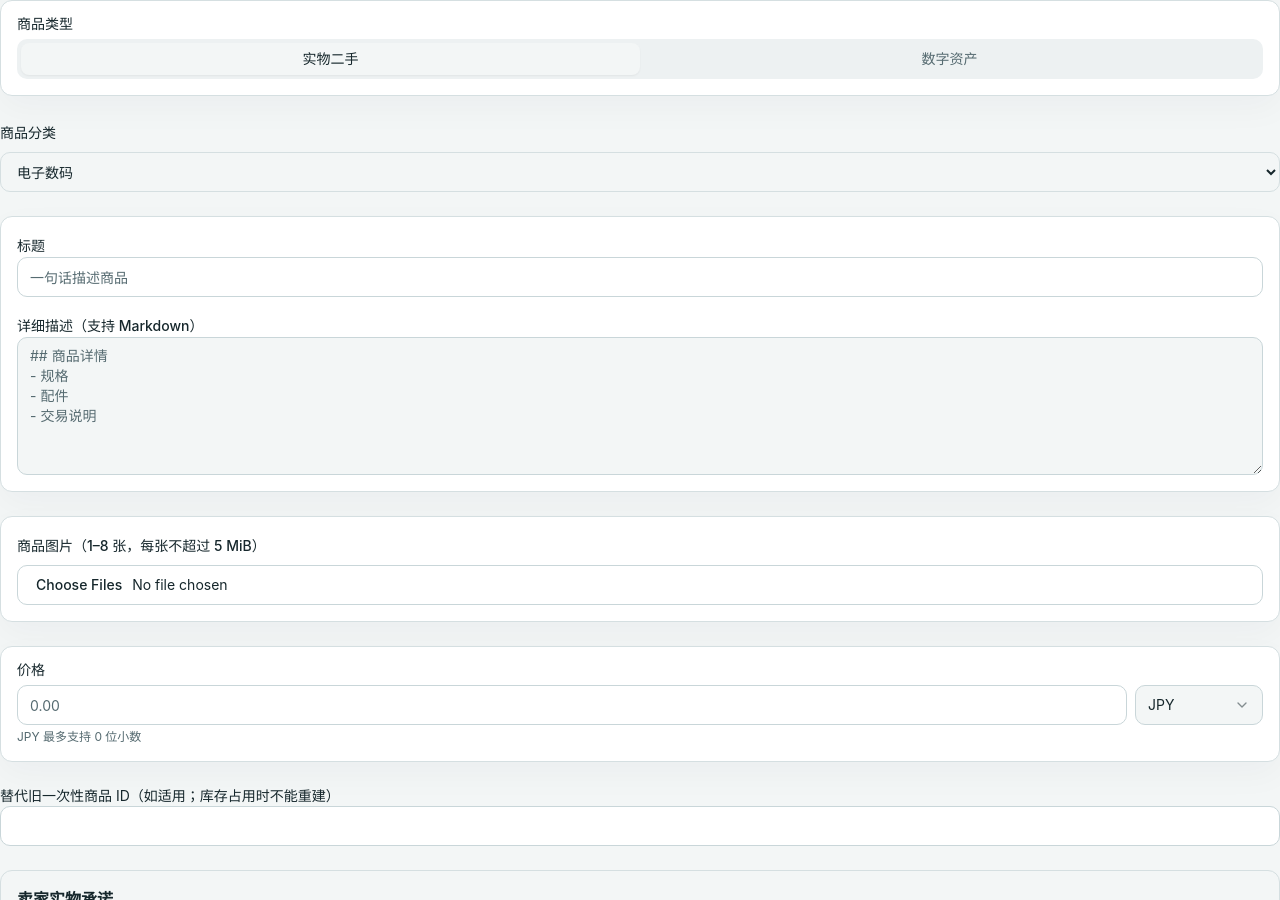
rejects excess decimal places using the server-provided currency scale
Expected: the dropdown labelled "JPY" is shown, [1135,685,1263,725]
Type "Valid title" into the field labelled "标题" at (640, 277), box [17,257,1263,297]
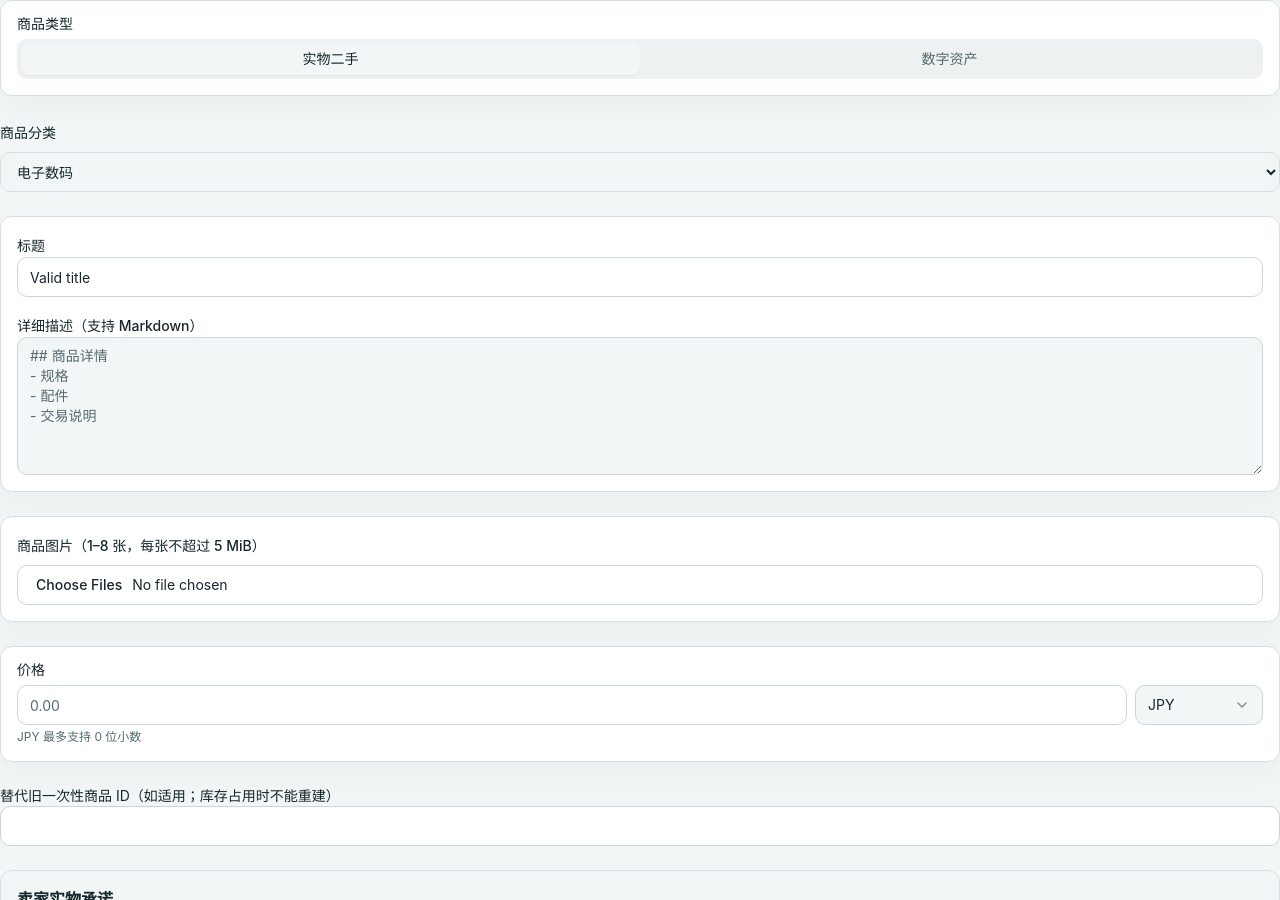
Type "Valid description" into the text box labelled "详细描述（支持 Markdown）" at (640, 406), box [17,337,1263,475]
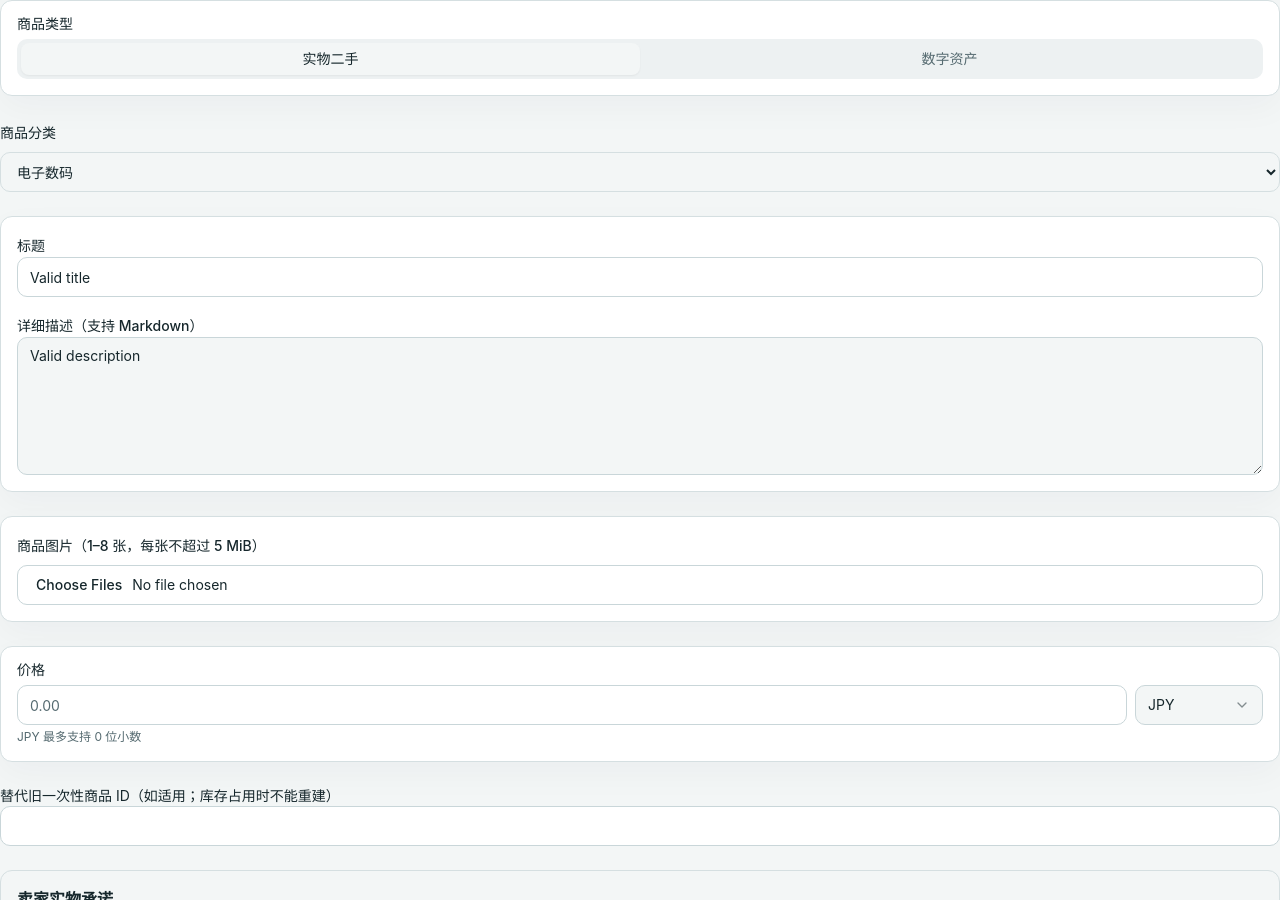
Type "1.5" into the field with placeholder "0.00" at (572, 705), box [17,685,1127,725]
(page scrolled)
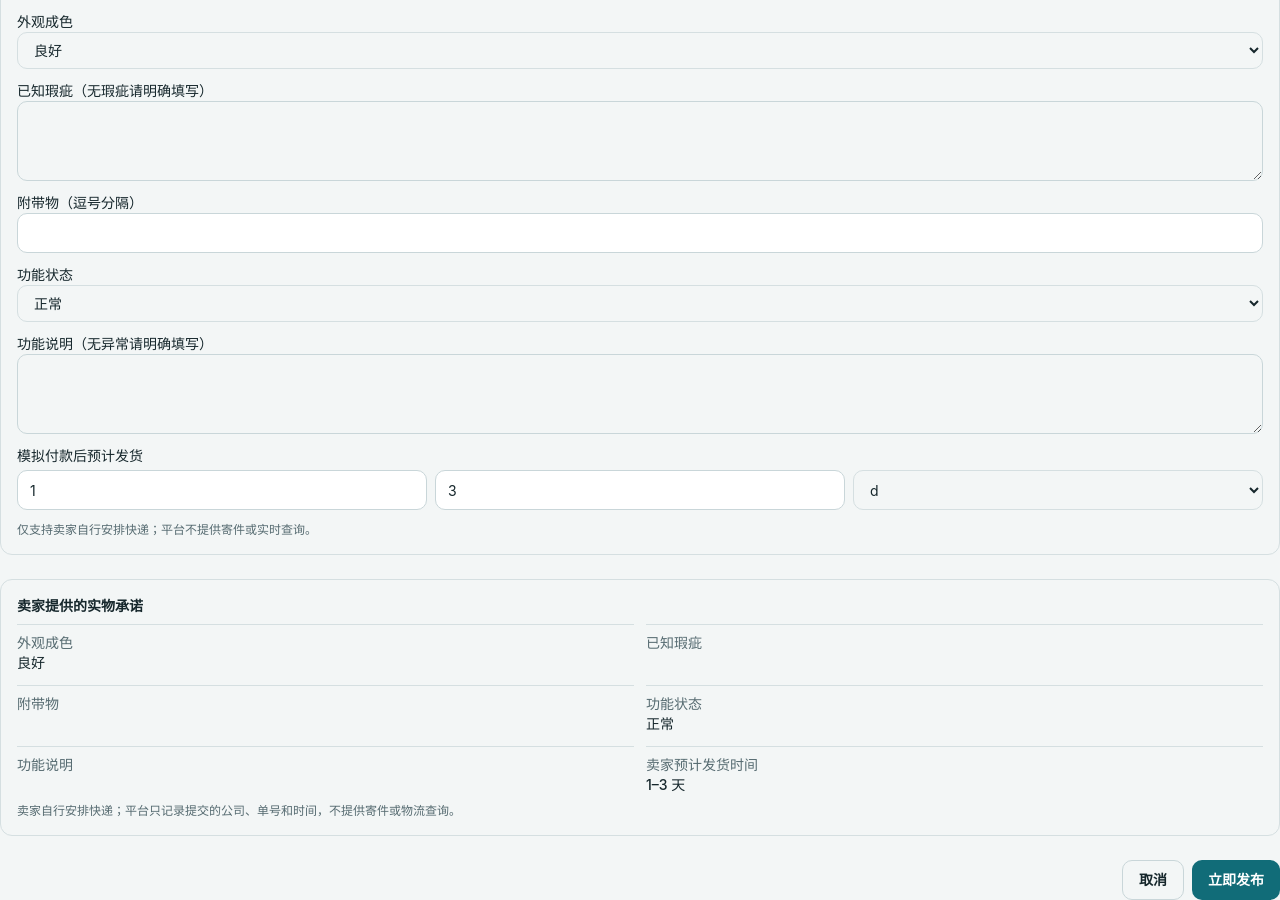
Click the button "立即发布" at (1236, 880), box [1192,860,1279,899]
(page scrolled)
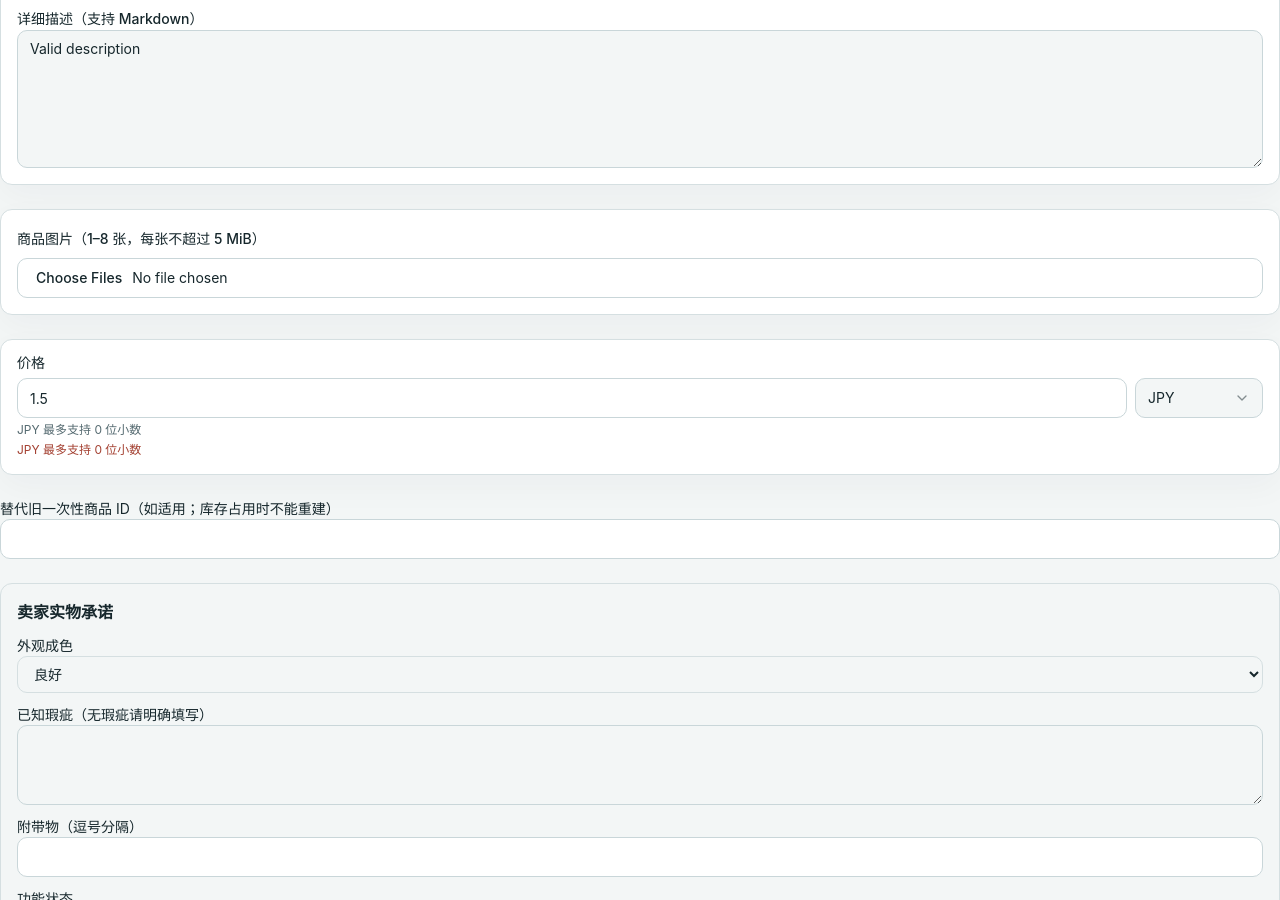
Expected: the message reads "JPY 最多支持 0 位小数", [17,442,141,457]
